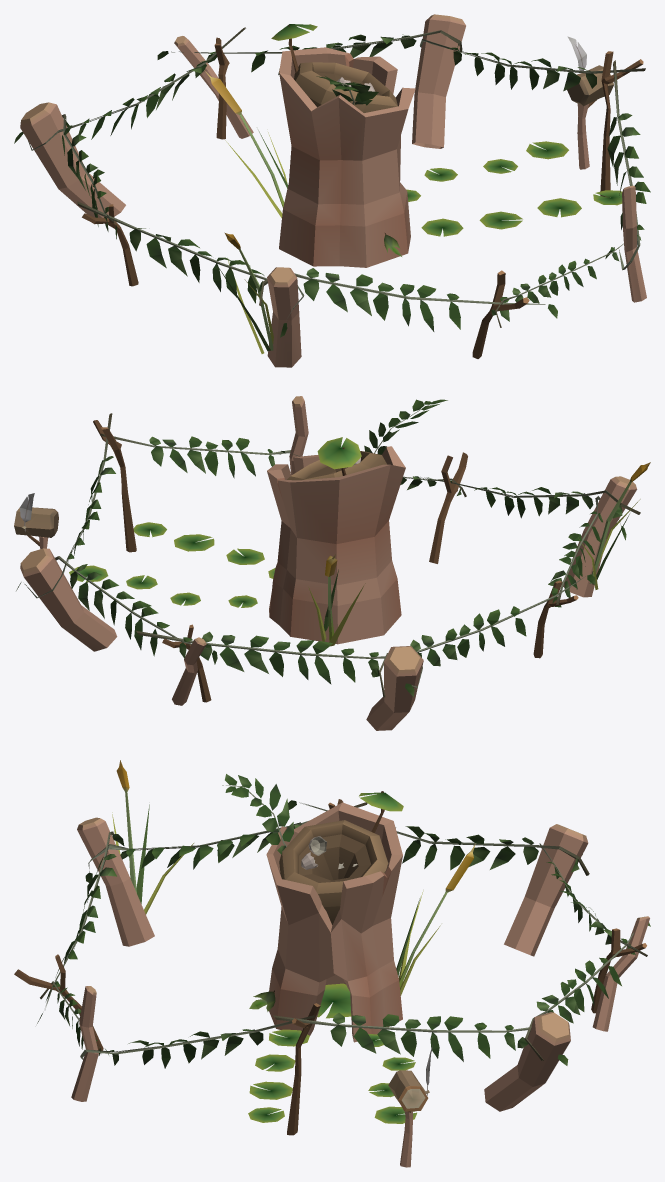
3 views of the same model, one above another, from view 1: azimuth 30°, elevation 25°; view 2: azimuth 150°, elevation 25°; view 3: azimuth 270°, elevation 25° (orthographic). The views are drawn at different scales.
Visible parts, largest first — view 1: nestStage_10; view 2: nestStage_10; view 3: nestStage_10.
Part boxes in pixels (x1,y1,x2,y2): nestStage_10: [14, 14, 650, 367]; nestStage_10: [14, 396, 650, 730]; nestStage_10: [14, 760, 650, 1167].
Bounding box in the file's own units: 5.95 × 2.45 × 5.85.
